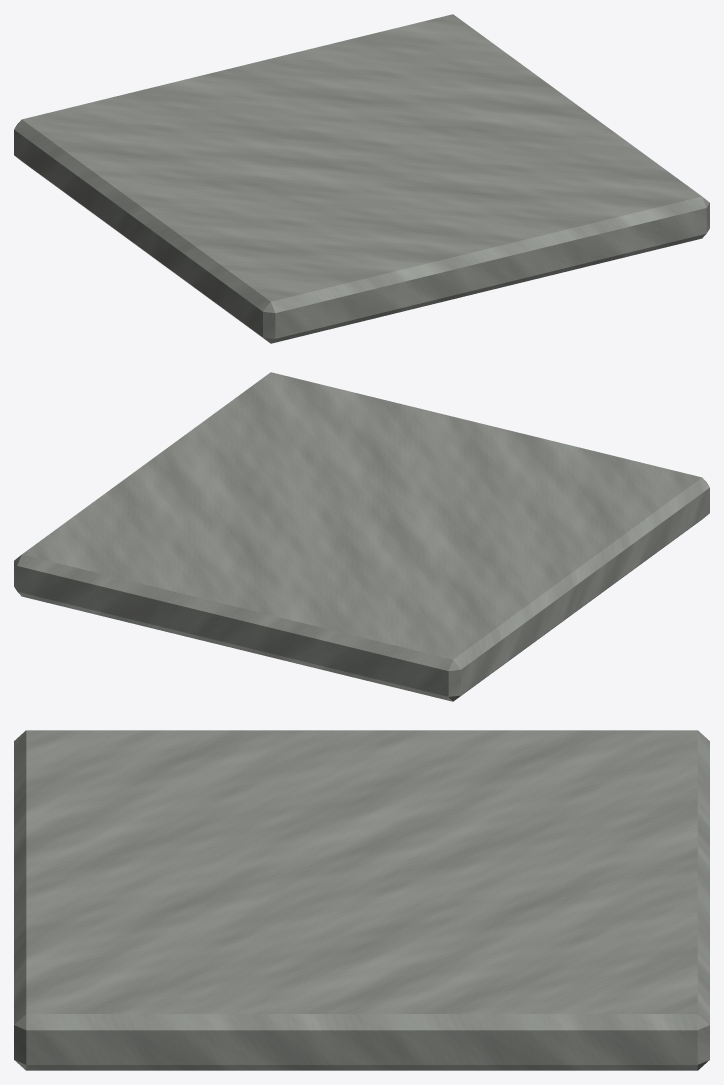
File: foundation_2x2.glb
3 renders of one model, top to bottom at view 1: azimuth 30°, elevation 25°; view 2: azimuth 150°, elevation 25°; view 3: azimuth 270°, elevation 25°, orthographic. The views are drawn at different scales.
Parts seen in each view (by area): view 1: foundation_2x2; view 2: foundation_2x2; view 3: foundation_2x2.
Boxes of the visible parts, bbox=[...] form: foundation_2x2: bbox=[14, 14, 709, 343]; foundation_2x2: bbox=[14, 372, 709, 701]; foundation_2x2: bbox=[14, 730, 709, 1070].
Bounding box in the file's own units: 2 × 0.18 × 2.
1 material, 1 textured.
